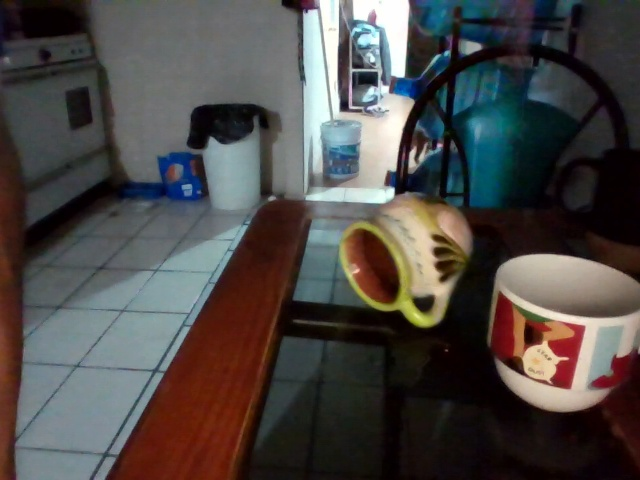taza: (488, 253, 640, 412)
